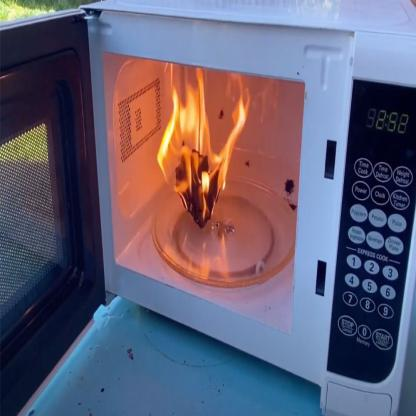fire: (156, 65, 258, 256)
